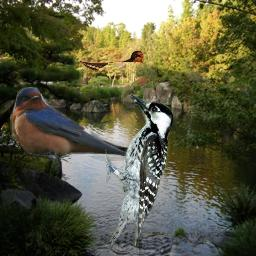Swallow: (10, 87, 161, 165), (80, 50, 144, 73)
Woodpecker: (105, 93, 173, 249)
